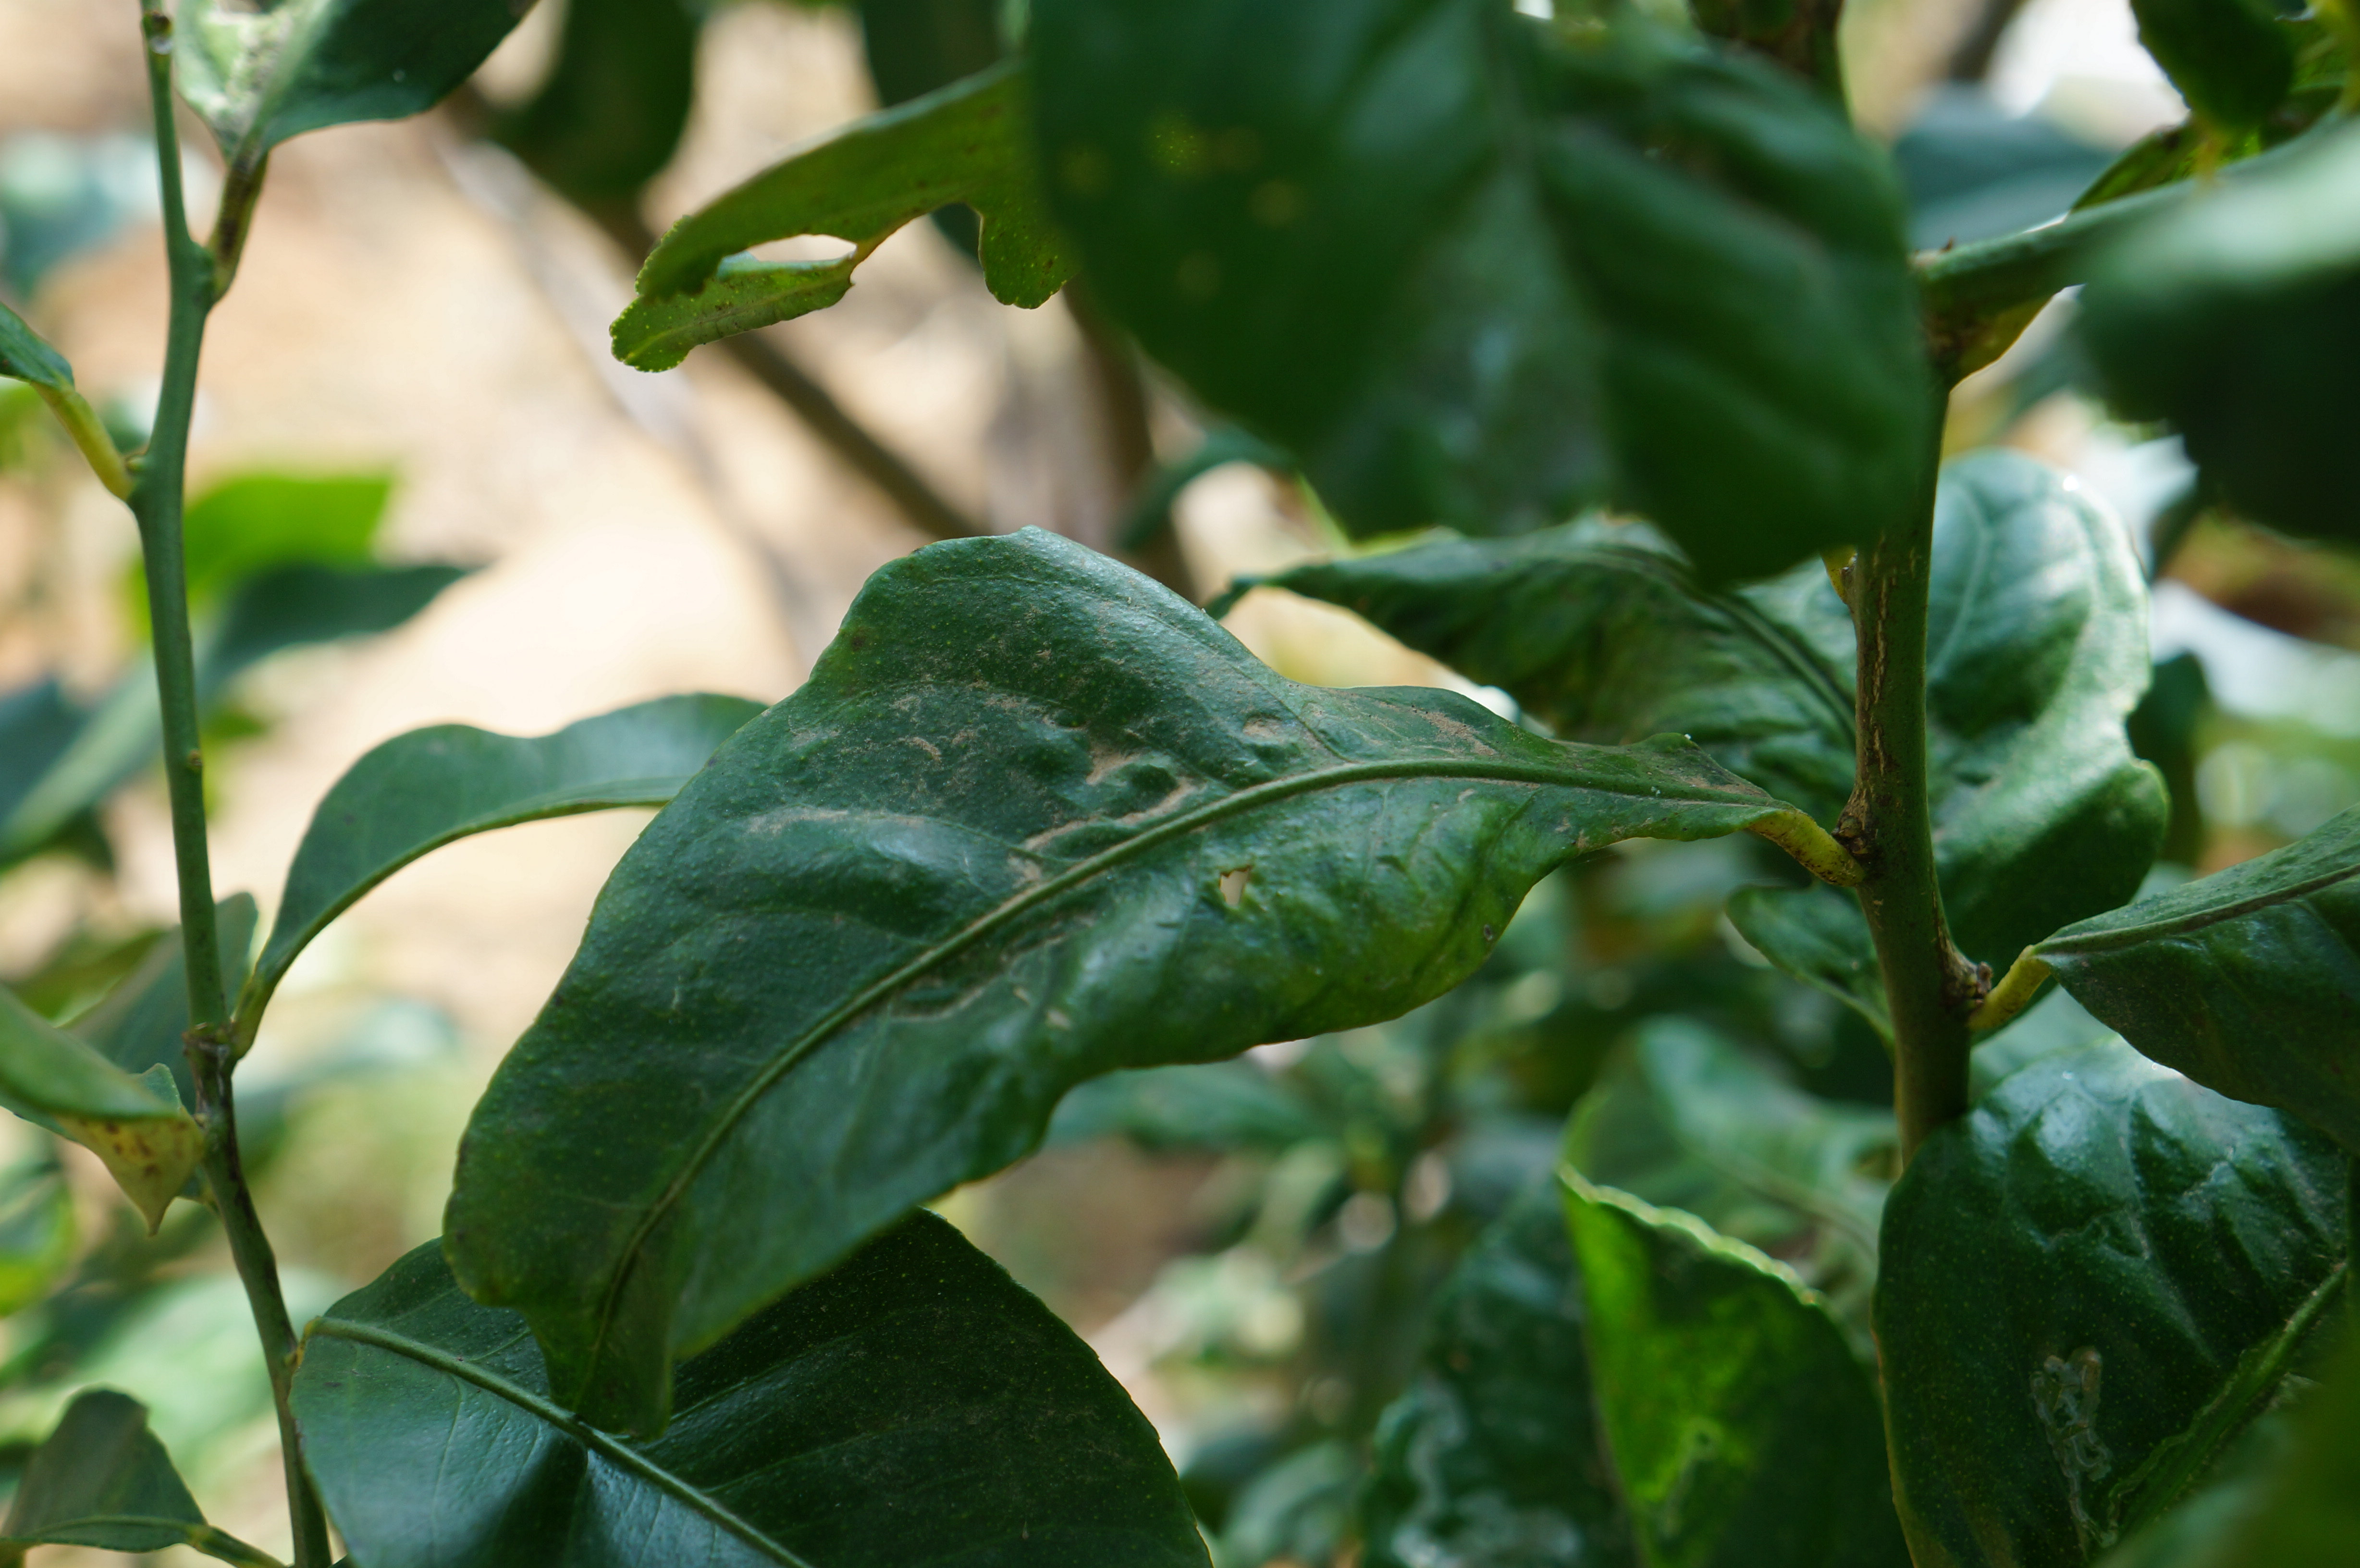damage: (983, 712, 1302, 982), (2022, 1335, 2243, 1568)
